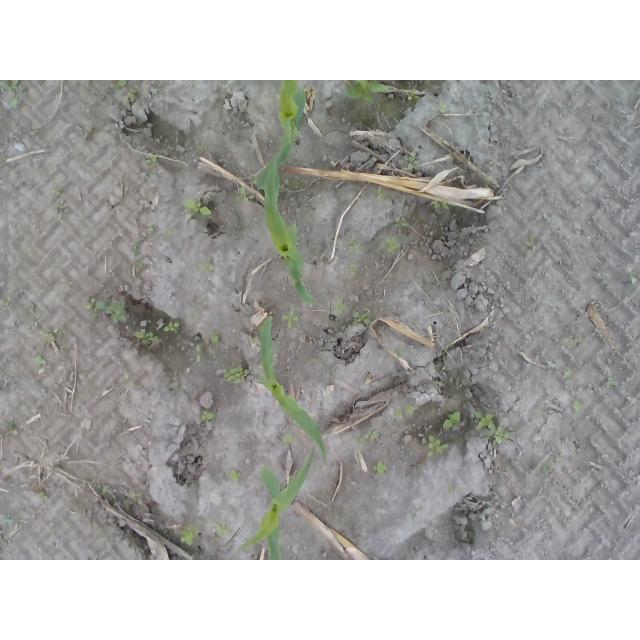Maize: (250, 314, 328, 466), (255, 144, 323, 309), (243, 445, 314, 560), (279, 80, 308, 141)
Weeds: (473, 406, 513, 447), (334, 294, 374, 329), (342, 80, 395, 104), (83, 295, 130, 322), (0, 80, 26, 112), (184, 198, 213, 225), (343, 231, 370, 257), (424, 430, 449, 458), (352, 428, 384, 448), (40, 327, 65, 352), (440, 408, 465, 432), (191, 344, 217, 367), (281, 304, 303, 331), (132, 328, 162, 345), (179, 522, 198, 547), (223, 367, 249, 385), (393, 399, 417, 418), (79, 479, 107, 495), (403, 149, 421, 169), (128, 254, 147, 272), (383, 237, 402, 254), (349, 260, 364, 280), (562, 336, 585, 349), (370, 460, 388, 476), (239, 186, 257, 202), (209, 329, 225, 346), (214, 522, 231, 538), (192, 143, 210, 157), (199, 409, 217, 423), (32, 353, 50, 367), (407, 504, 422, 520), (164, 319, 181, 333), (199, 260, 217, 273), (280, 432, 297, 445), (126, 85, 138, 103), (159, 229, 177, 240), (431, 199, 449, 210), (145, 152, 159, 166), (227, 467, 241, 481), (405, 87, 419, 101), (435, 101, 450, 114), (393, 216, 407, 229), (375, 183, 385, 201), (126, 368, 136, 385), (1, 295, 16, 306), (37, 490, 50, 502), (394, 348, 407, 360), (573, 399, 584, 413), (607, 376, 617, 391), (49, 185, 64, 195), (544, 360, 560, 369), (111, 80, 128, 88), (0, 516, 16, 524), (524, 239, 536, 249), (128, 491, 145, 498), (63, 279, 74, 289), (147, 223, 157, 234), (127, 241, 138, 250), (562, 369, 571, 379), (542, 463, 552, 472), (8, 423, 16, 433), (266, 311, 274, 320), (383, 335, 393, 342)
